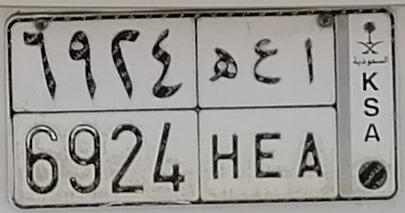2: (109, 29, 146, 195)
4: (151, 27, 187, 193)
6: (21, 30, 60, 195)
9: (68, 29, 102, 194)
A: (296, 36, 324, 178)
E: (252, 38, 283, 180)
H: (209, 47, 241, 180)
